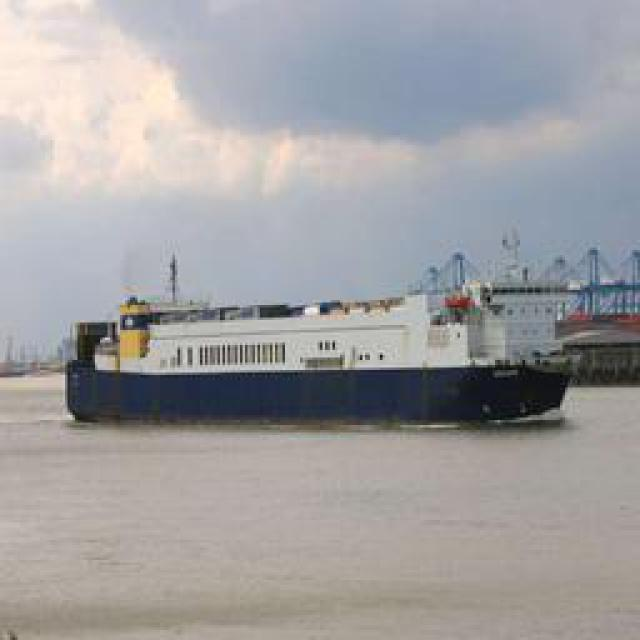Ship: (80, 270, 580, 428)
